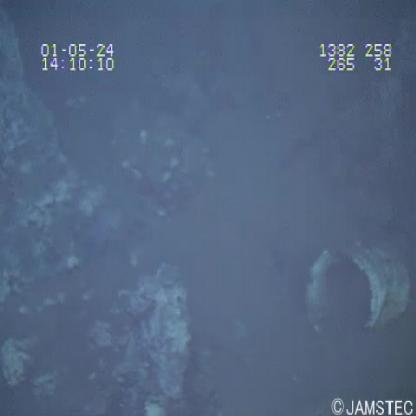Rác: (303, 231, 415, 349)
